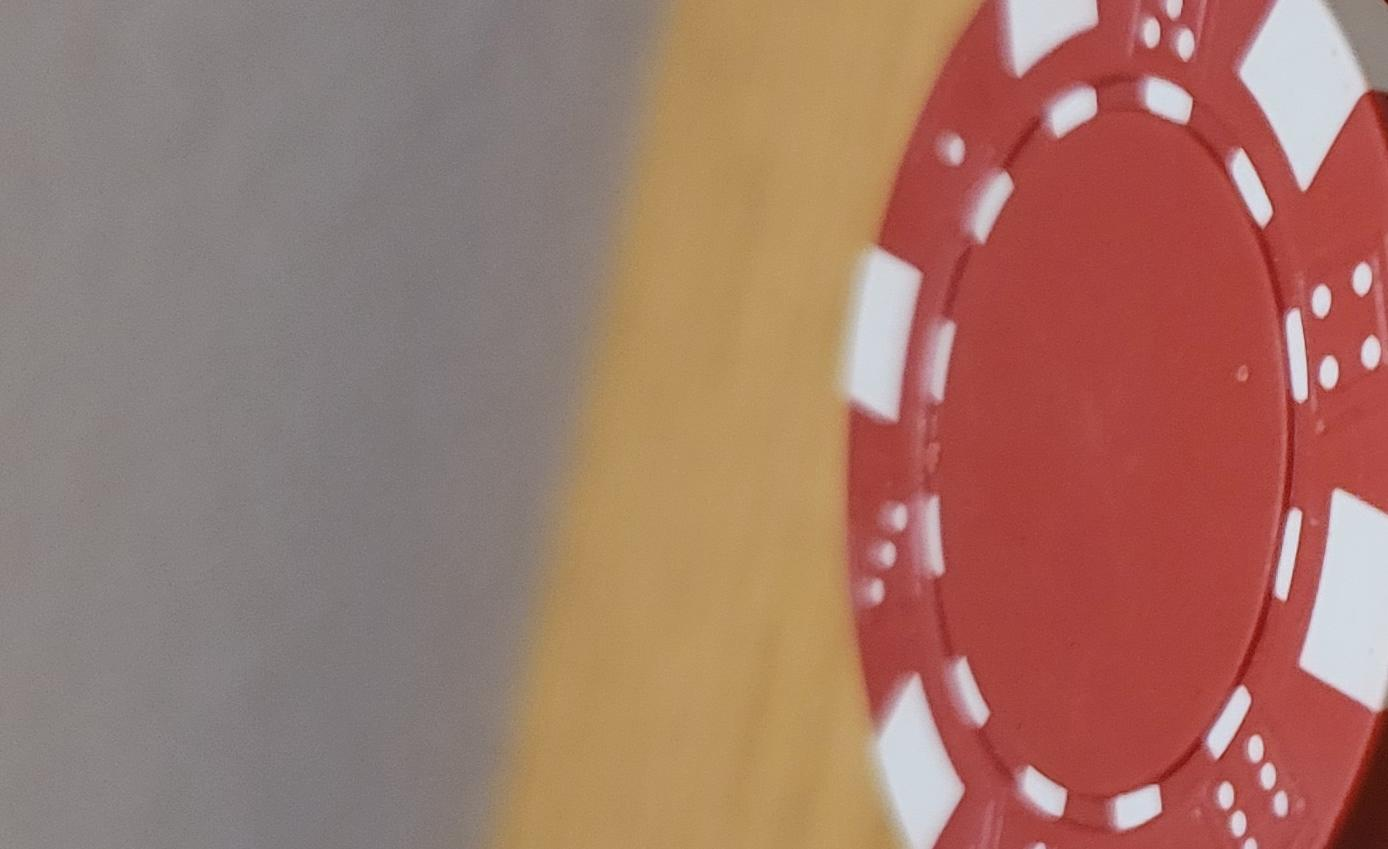Chip: (1, 335, 1009, 849)
